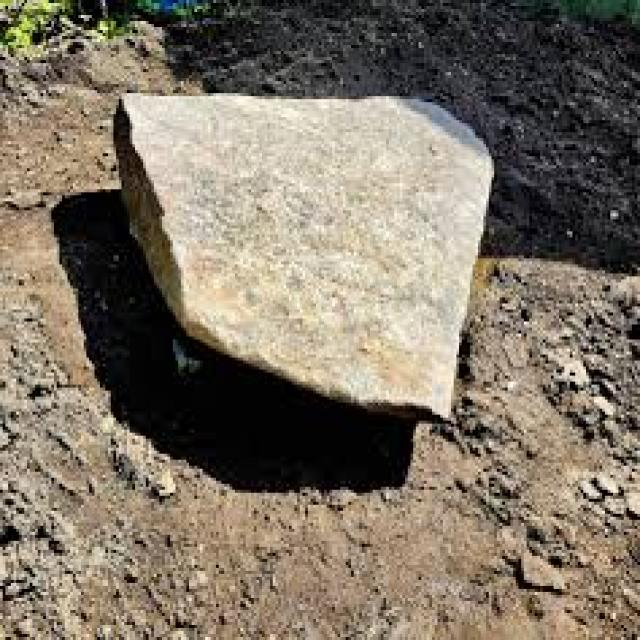red-sand: (167, 0, 635, 270)
stone: (116, 93, 491, 412)
white-sand: (0, 42, 637, 637)
